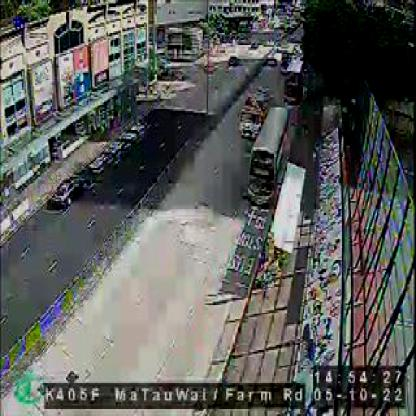Bus: (244, 107, 288, 208), (284, 59, 302, 102)
Car: (52, 175, 83, 206)
Truck: (239, 87, 269, 135)
